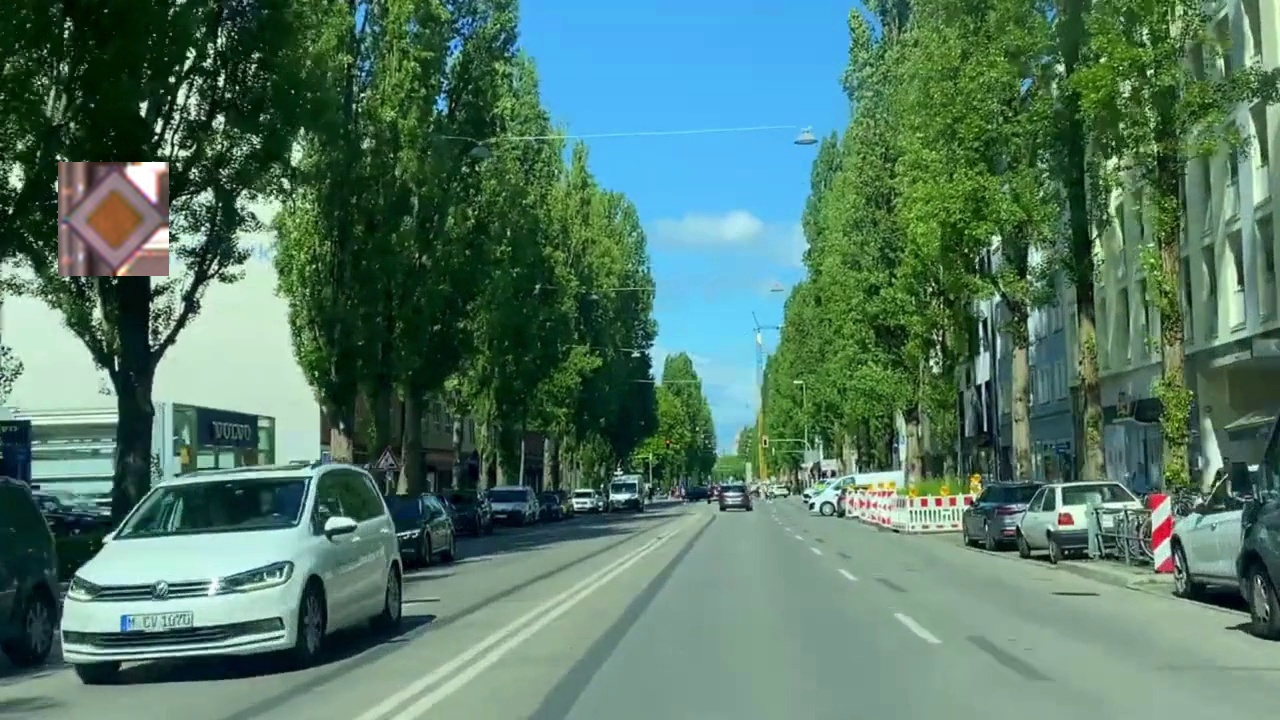Priority road: (58, 162, 169, 276)
